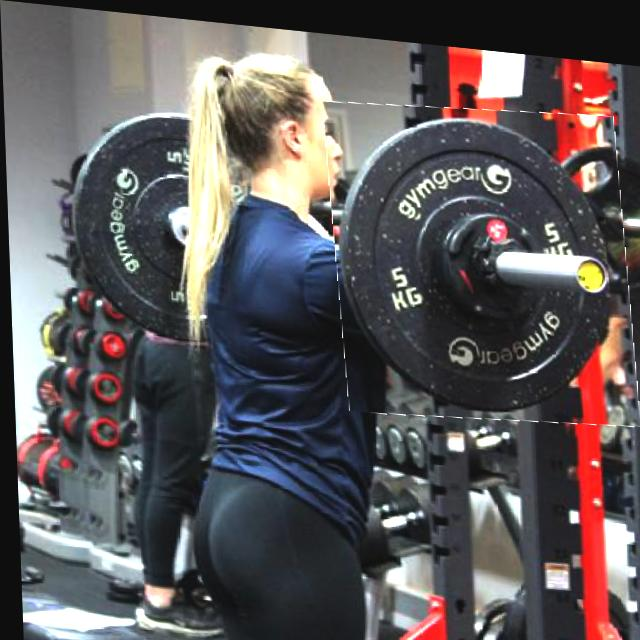barbell: (327, 84, 635, 424)
